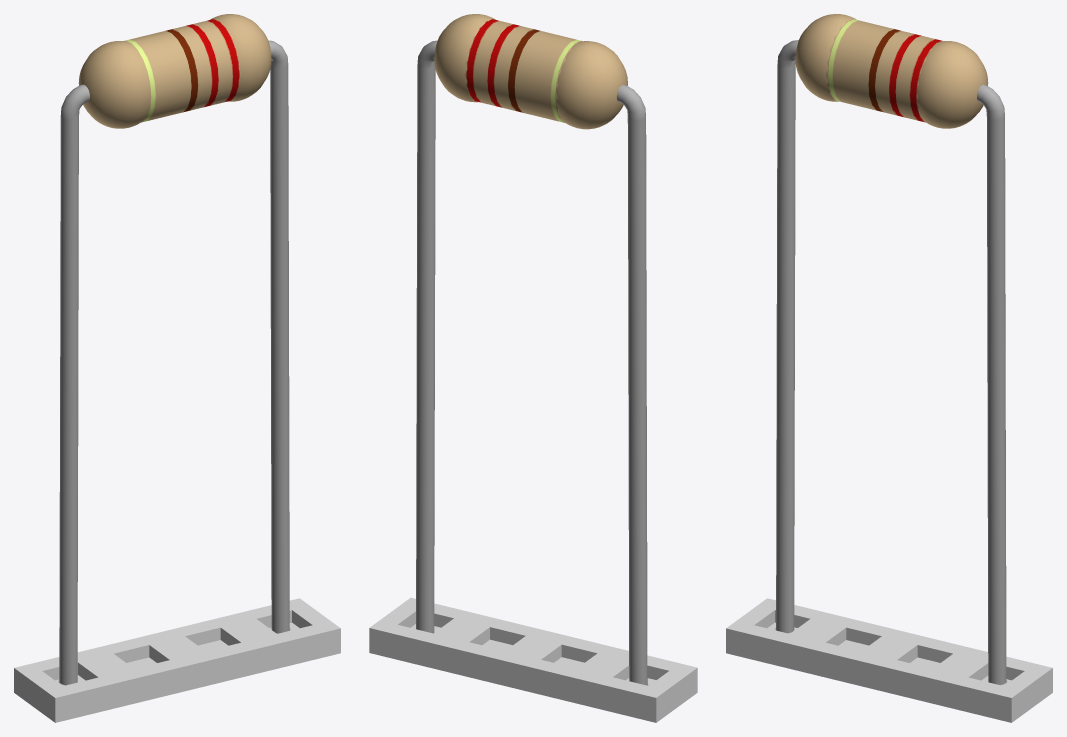
The model's file is Resistencia220.fbx.
3 renders of one model, left to right at view 1: azimuth 30°, elevation 25°; view 2: azimuth 150°, elevation 25°; view 3: azimuth 330°, elevation 25°, orthographic.
Parts seen in each view (by area): view 1: ProtoboardResistencia220, Resistencia220, Pata2Resistencia, Pata1Resistencia; view 2: ProtoboardResistencia220, Resistencia220, Pata2Resistencia, Pata1Resistencia; view 3: ProtoboardResistencia220, Resistencia220, Pata1Resistencia, Pata2Resistencia.
Boxes of the visible parts, <box> form: ProtoboardResistencia220: <box>14,598,340,722</box>; Resistencia220: <box>78,14,271,128</box>; Pata2Resistencia: <box>58,84,89,685</box>; Pata1Resistencia: <box>268,40,290,633</box>; ProtoboardResistencia220: <box>369,597,697,722</box>; Resistencia220: <box>434,14,627,129</box>; Pata2Resistencia: <box>616,85,648,685</box>; Pata1Resistencia: <box>416,40,437,633</box>; ProtoboardResistencia220: <box>726,598,1052,722</box>; Resistencia220: <box>795,14,988,128</box>; Pata1Resistencia: <box>977,84,1007,685</box>; Pata2Resistencia: <box>775,40,798,633</box>.
Bounding box in the file's own units: 18 × 38.57 × 4.77.
3 materials, 1 textured.
